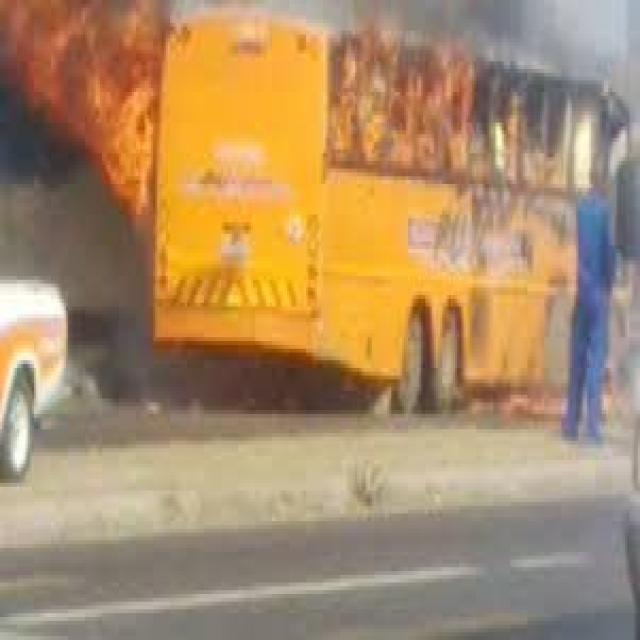Fire: (315, 3, 597, 242), (0, 0, 183, 270)
